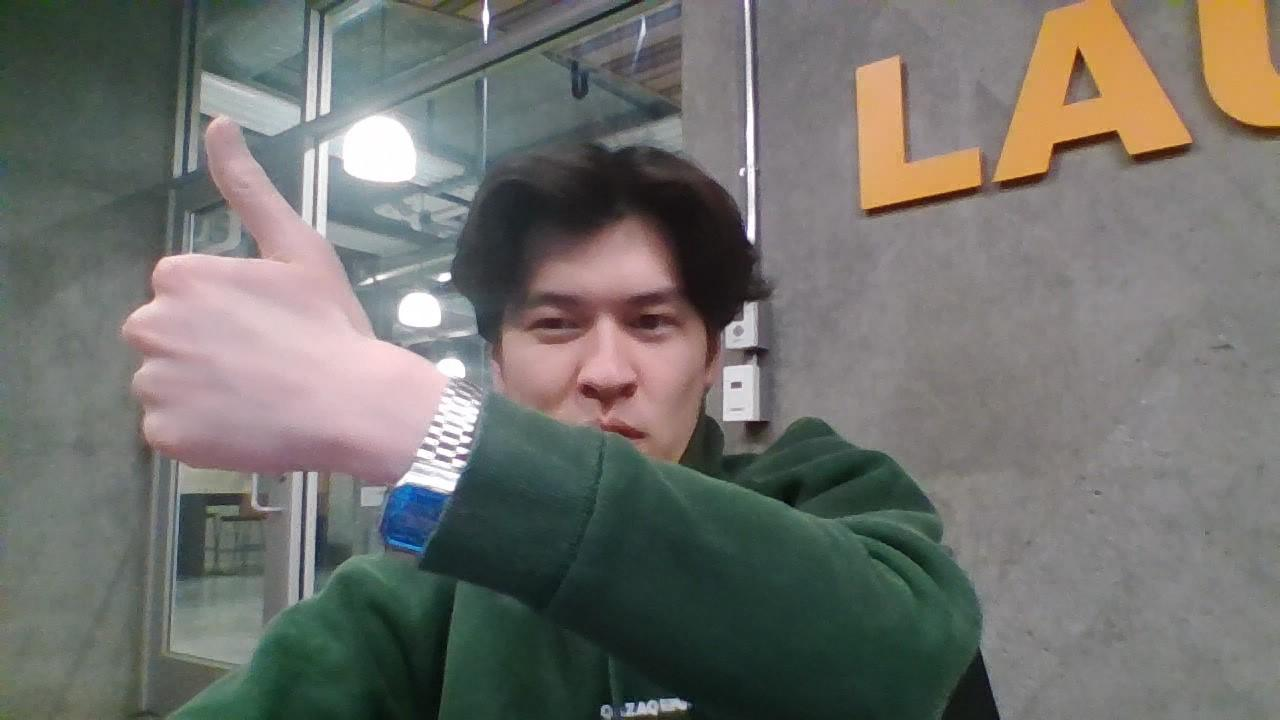thumbsUp: (123, 113, 346, 473)
